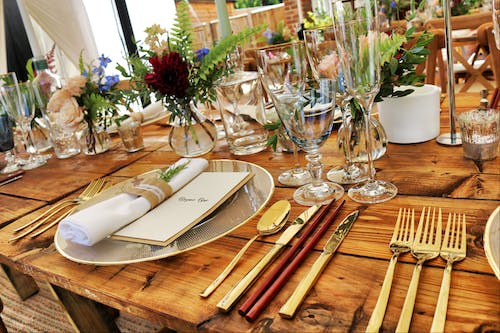knife: (215, 201, 324, 314), (278, 209, 360, 320)
